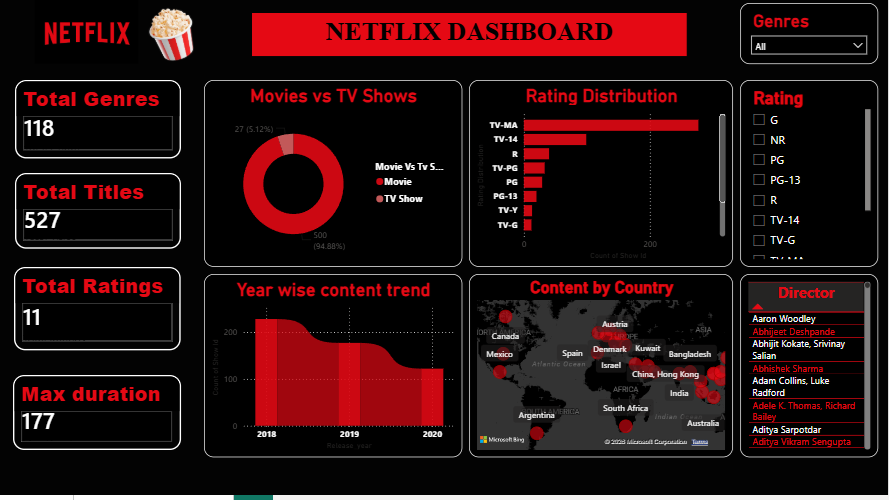

This screenshot's page, from the dashboard's own definition file:
{"tool":"powerbi","page":{"name":"DASHBOARD","canvas":[1280,720],"ordinal":0},"visuals":[{"type":"cardVisual","title":"Total Titles","fields":{"Data":["Netflix.Total Titles"]},"box":[21.6,256.3,239,109],"z":0},{"type":"cardVisual","title":"Total Genres","fields":{"Data":["Netflix.Total Genre"]},"box":[21.6,122.4,239,113],"z":1000},{"type":"cardVisual","title":"Total Ratings","fields":{"Data":["Netflix.Total Ratings"]},"box":[20.2,391.7,240.5,119.5],"z":2000},{"type":"cardVisual","title":"Max duration","fields":{"Data":["Netflix.Max Duration"]},"box":[18.7,547.2,241.9,108],"z":3000},{"type":"donutChart","title":"Movies vs TV Shows","fields":{"Category":["Netflix.Type"],"Y":["CountNonNull(Netflix.Show Id)"]},"box":[293.8,122.4,371.5,269.3],"z":4000},{"type":"barChart","title":"Rating Distribution","fields":{"Category":["Netflix.Rating"],"Y":["CountNonNull(Netflix.Show Id)"]},"box":[675.4,122.4,380.2,269.3],"z":5000},{"type":"ribbonChart","title":"Year wise content trend","fields":{"Category":["Netflix.Release_year"],"Y":["CountNonNull(Netflix.Show Id)"]},"box":[293.8,401.8,371.5,263.5],"z":6000},{"type":"map","title":"Content by Country","fields":{"Category":["Netflix.Country"]},"box":[675.4,401.8,380.2,263.5],"z":7000},{"type":"image","box":[0,0,249.1,99.4],"z":8000},{"type":"textbox","box":[362.9,25.9,626.4,61.9],"z":9000},{"type":"slicer","fields":{"Values":["Netflix.Rating"]},"box":[1065.6,122.4,198.7,269.3],"z":10000},{"type":"slicer","fields":{"Values":["Netflix.Genres"]},"box":[1065.6,11.5,198.7,87.8],"z":11000},{"type":"tableEx","fields":{"Values":["Netflix.Director"]},"box":[1066,402,199,264],"z":12000},{"type":"image","box":[185.8,11.5,126.7,87.8],"z":13000}]}

Visuals, with their boxes in screenshot pixels (x1, y1, x2, y2), scaled from the page's 1280x720 canvas onto the 889x500 screenshot:
"Total Titles" cardVisual: 15,178,181,254
"Total Genres" cardVisual: 15,85,181,163
"Total Ratings" cardVisual: 14,272,181,355
"Max duration" cardVisual: 13,380,181,455
"Movies vs TV Shows" donutChart: 204,85,462,272
"Rating Distribution" barChart: 469,85,733,272
"Year wise content trend" ribbonChart: 204,279,462,462
"Content by Country" map: 469,279,733,462
image: 0,0,173,69
textbox: 252,18,687,61
slicer - Netflix.Rating: 740,85,878,272
slicer - Netflix.Genres: 740,8,878,69
tableEx - Netflix.Director: 740,279,879,462
image: 129,8,217,69
